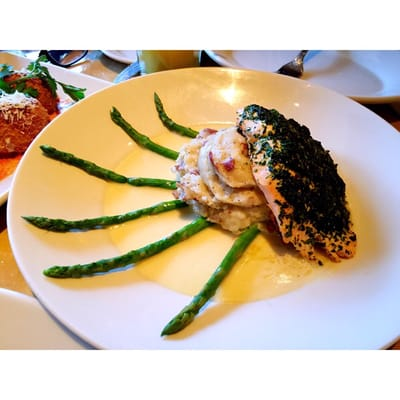curry: (1, 51, 393, 370)
